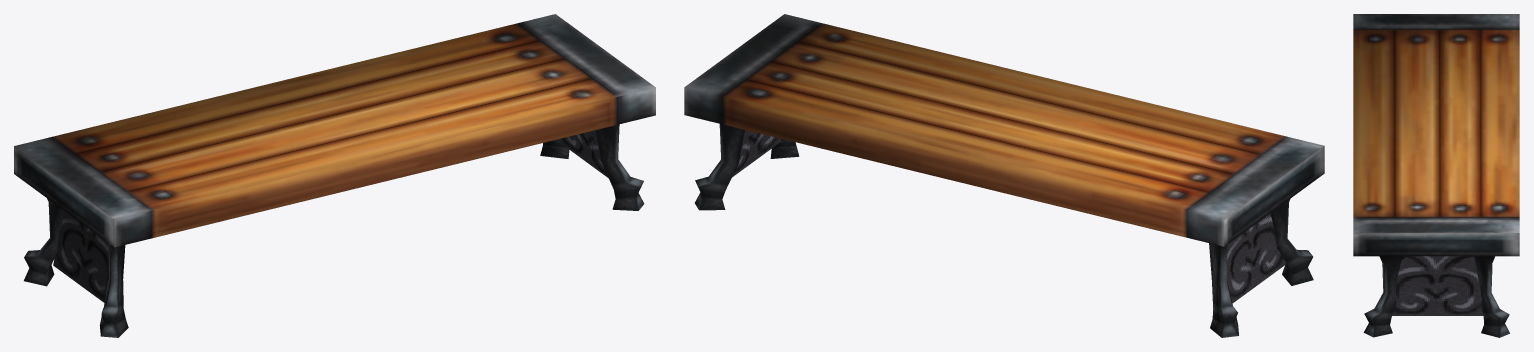
Rendered from c_sebench01.glb.
The picture shows the model from 3 angles, left to right: view 1: azimuth 30°, elevation 25°; view 2: azimuth 150°, elevation 25°; view 3: azimuth 270°, elevation 25°; orthographic projection. The views are drawn at different scales.
Parts seen in each view (by area): view 1: c_sebench01; view 2: c_sebench01; view 3: c_sebench01.
Part boxes in pixels (x1,y1,x2,y2): c_sebench01: [14, 14, 655, 337]; c_sebench01: [684, 14, 1324, 337]; c_sebench01: [1353, 14, 1519, 337].
Size of the model in its own units: 2 by 0.4393 by 0.6364.
2 materials, 2 textured.
